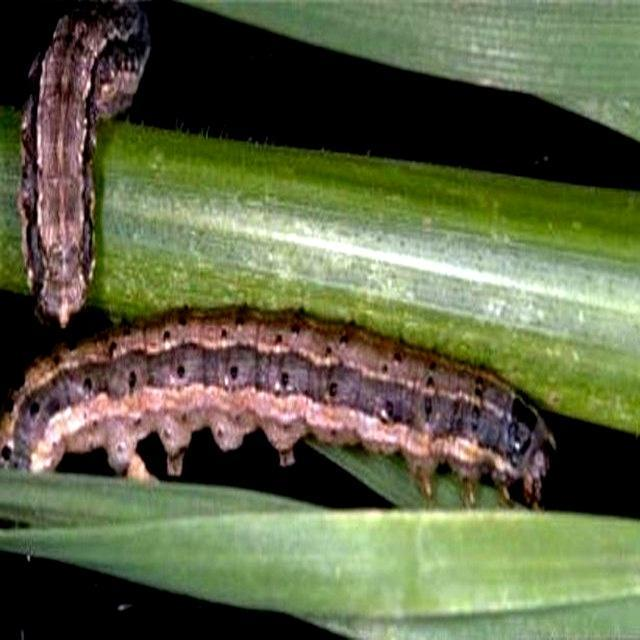Plaga: (3, 305, 553, 495), (16, 23, 111, 326)
